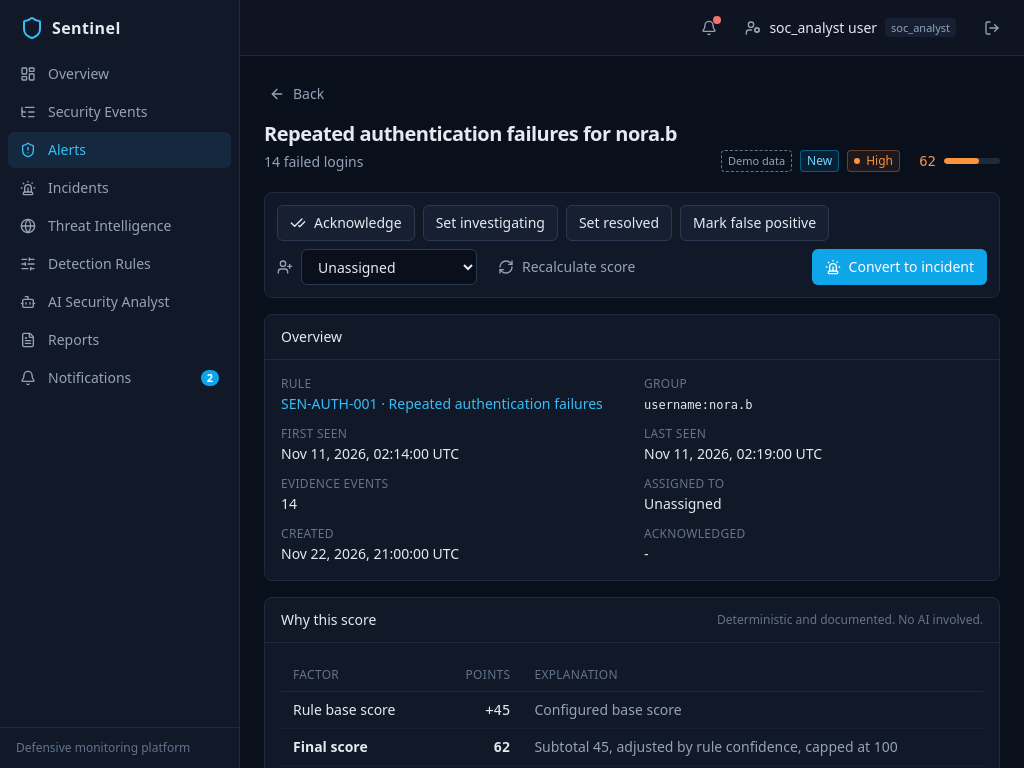
Test: events explorer and alert actions › requires a reason before marking an alert as a false positive
The width and height of the screenshot is (1024, 768).
Step 1. Click the button "Mark false positive" → point(754, 223), box [680,205,829,241]
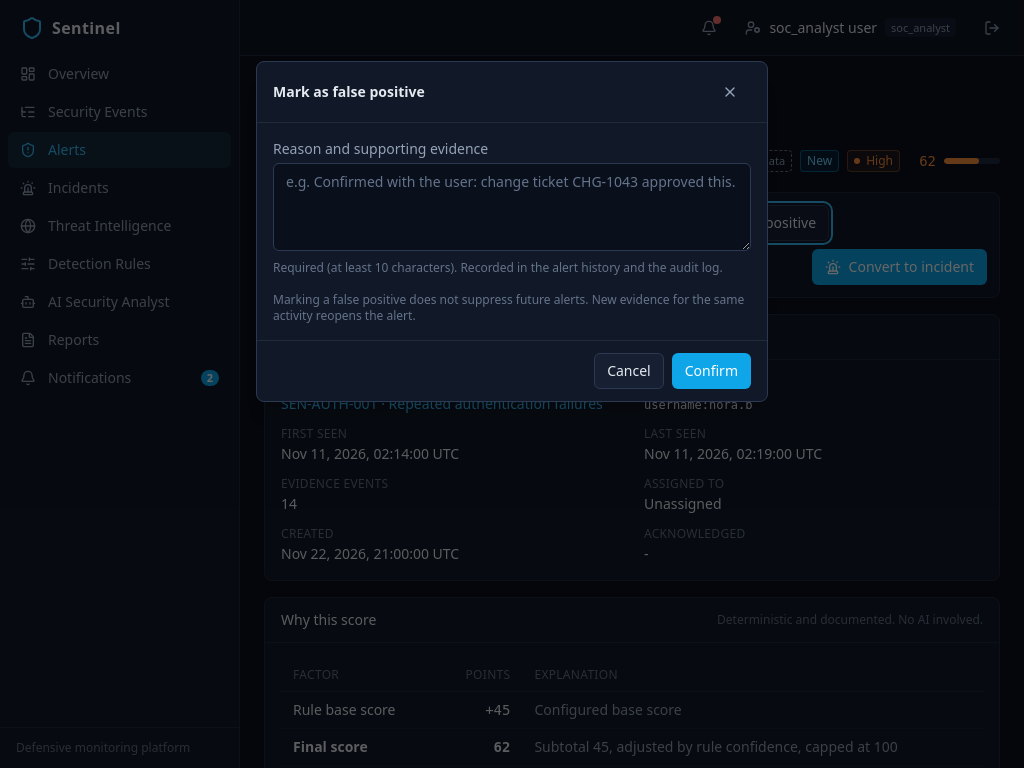
Step 2. Click the button "Confirm" → point(711, 371), box [672,353,751,389]
(page scrolled)
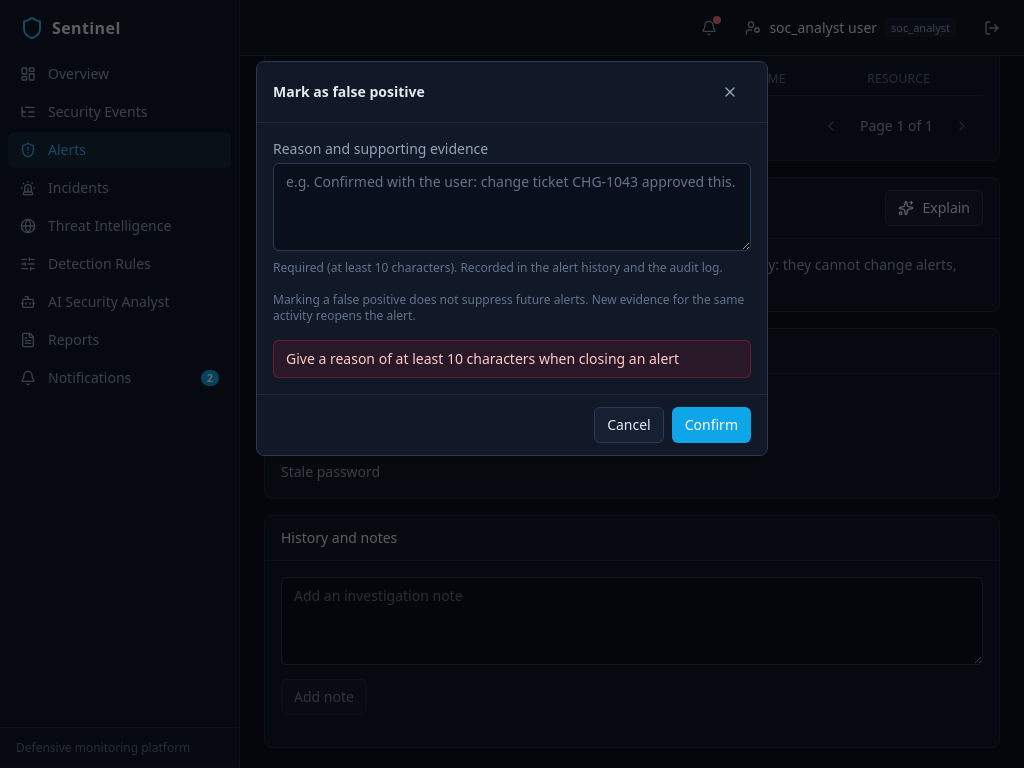
Check: the message shows "Give a reason", box [286,349,679,368]
